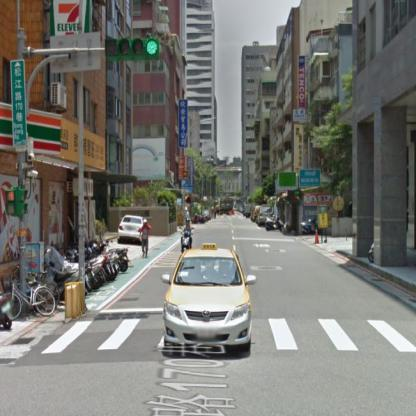Green Light: (102, 36, 162, 58)
